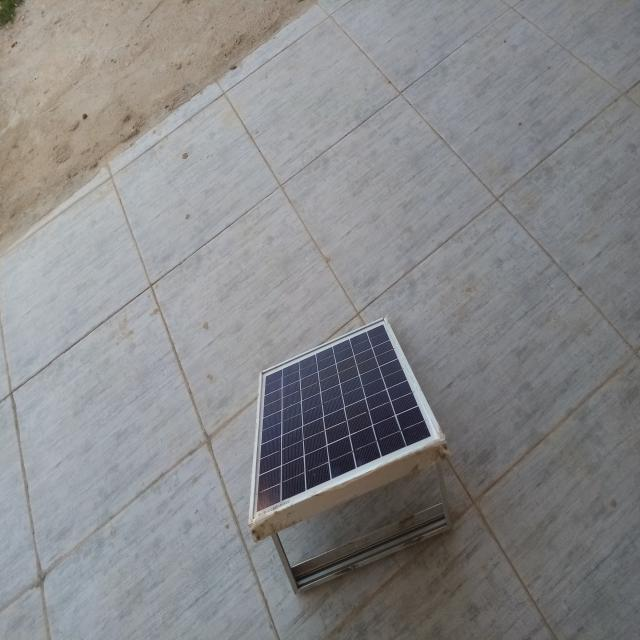no faulty: (246, 316, 446, 527)
